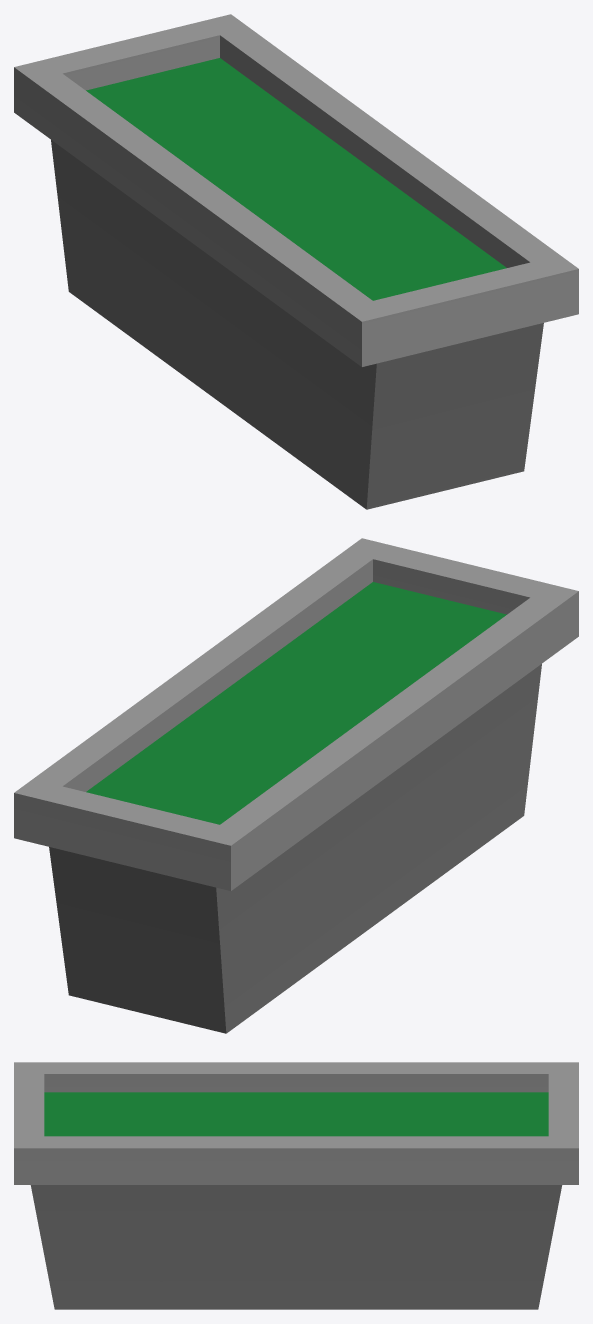
The model's file is FlowerPot_5_2_F.fbx.
3 views of the same model, one above another, from view 1: azimuth 30°, elevation 25°; view 2: azimuth 150°, elevation 25°; view 3: azimuth 270°, elevation 25° (orthographic). The views are drawn at different scales.
Visible parts, largest first — view 1: FlowerPot_5_2_F; view 2: FlowerPot_5_2_F; view 3: FlowerPot_5_2_F.
Boxes of the visible parts, x1,y1,x2,y2 form: FlowerPot_5_2_F: (14,14,578,509); FlowerPot_5_2_F: (14,538,578,1033); FlowerPot_5_2_F: (14,1062,578,1309).
Size of the model in its own units: 32.46 by 30.52 by 90.14.
